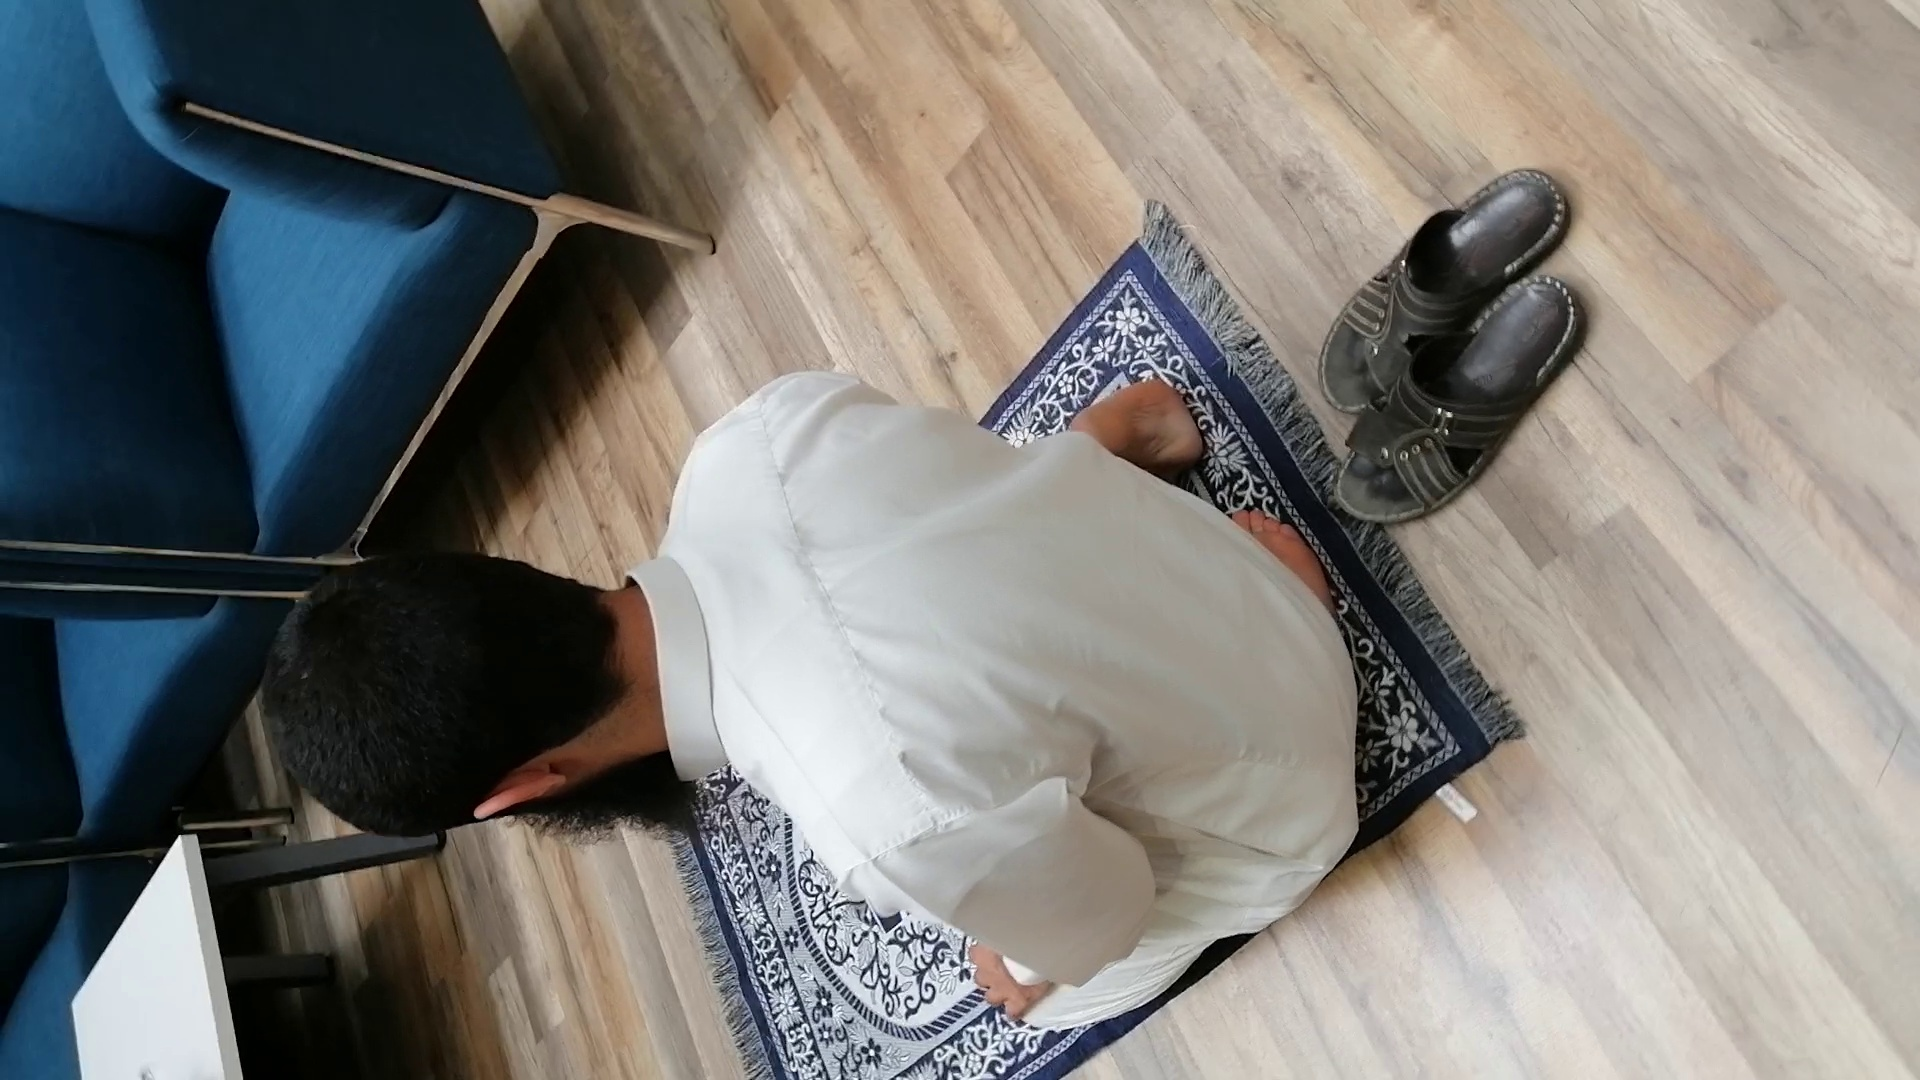sitting: (202, 349, 1425, 1036)
